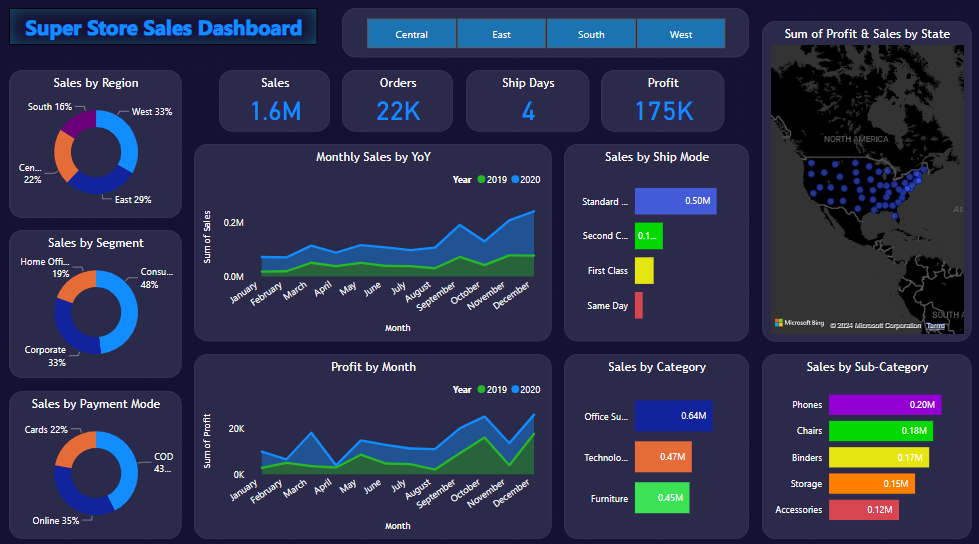

The dashboard page shown, as its layout file describes it:
{"tool":"powerbi","page":{"name":"Page 1","canvas":[1280,720],"ordinal":0},"visuals":[{"type":"clusteredBarChart","title":"Sales by Category","fields":{"Category":["SuperStore_Sales_Dataset.Category"],"Y":["Sum(SuperStore_Sales_Dataset.Sales)"]},"box":[736,464,240,240],"z":0},{"type":"clusteredBarChart","title":"Sales by Sub-Category","fields":{"Y":["Sum(SuperStore_Sales_Dataset.Sales)"],"Category":["SuperStore_Sales_Dataset.Sub-Category"]},"box":[992,464,272,240],"z":1000},{"type":"clusteredBarChart","title":"Sales by Ship Mode","fields":{"Y":["Sum(SuperStore_Sales_Dataset.Sales)"],"Category":["SuperStore_Sales_Dataset.Ship Mode"]},"box":[736,192,240,256],"z":2000},{"type":"stackedAreaChart","title":"Monthly Sales by YoY","fields":{"Y":["Sum(SuperStore_Sales_Dataset.Sales)"],"Category":["SuperStore_Sales_Dataset.Order Date.Variation.Date Hierarchy.Month","SuperStore_Sales_Dataset.Order Date.Variation.Date Hierarchy.Day"],"Series":["SuperStore_Sales_Dataset.Order Date.Variation.Date Hierarchy.Year"]},"box":[256,192,464,256],"z":3000},{"type":"stackedAreaChart","title":"Profit by Month","fields":{"Category":["SuperStore_Sales_Dataset.Order Date.Variation.Date Hierarchy.Month","SuperStore_Sales_Dataset.Order Date.Variation.Date Hierarchy.Day"],"Series":["SuperStore_Sales_Dataset.Order Date.Variation.Date Hierarchy.Year"],"Y":["Sum(SuperStore_Sales_Dataset.Profit)"]},"box":[256,464,464,240],"z":4000},{"type":"map","title":"Sum of Profit & Sales by State","fields":{"Category":["SuperStore_Sales_Dataset.State"]},"box":[992,32,272,416],"z":5000},{"type":"donutChart","title":"Sales by Payment Mode","fields":{"Y":["Sum(SuperStore_Sales_Dataset.Sales)"],"Category":["SuperStore_Sales_Dataset.Payment Mode"]},"box":[16,512,224,192],"z":6000},{"type":"donutChart","title":"Sales by Segment","fields":{"Category":["SuperStore_Sales_Dataset.Segment"],"Y":["Sum(SuperStore_Sales_Dataset.Sales)"]},"box":[16,304,224,192],"z":7000},{"type":"slicer","fields":{"Values":["SuperStore_Sales_Dataset.Region"]},"box":[448,16,528,64],"z":8000},{"type":"textbox","box":[16,16,400,48],"z":9000},{"type":"card","title":"Sales","fields":{"Values":["Sum(SuperStore_Sales_Dataset.Sales)"]},"box":[288,96,144,80],"z":10000},{"type":"card","title":"Orders","fields":{"Values":["Sum(SuperStore_Sales_Dataset.Quantity)"]},"box":[448,96,144,80],"z":11000},{"type":"card","title":"Ship Days","fields":{"Values":["Avg(SuperStore_Sales_Dataset.AvgDelivery)"]},"box":[608,96,160,80],"z":12000},{"type":"card","title":"Profit","fields":{"Values":["Sum(SuperStore_Sales_Dataset.Profit)"]},"box":[784,96,160,80],"z":13000},{"type":"donutChart","title":"Sales by Region","fields":{"Y":["Sum(SuperStore_Sales_Dataset.Sales)"],"Category":["SuperStore_Sales_Dataset.Region"]},"box":[16,96,224,192],"z":14000}]}

Visuals, with their boxes in screenshot pixels (x1, y1, x2, y2), scaled from the page's 1280x720 canvas onto the 979x544 screenshot:
"Sales by Category" clusteredBarChart: bbox=[563, 351, 746, 532]
"Sales by Sub-Category" clusteredBarChart: bbox=[759, 351, 967, 532]
"Sales by Ship Mode" clusteredBarChart: bbox=[563, 145, 746, 338]
"Monthly Sales by YoY" stackedAreaChart: bbox=[196, 145, 551, 338]
"Profit by Month" stackedAreaChart: bbox=[196, 351, 551, 532]
"Sum of Profit & Sales by State" map: bbox=[759, 24, 967, 338]
"Sales by Payment Mode" donutChart: bbox=[12, 387, 184, 532]
"Sales by Segment" donutChart: bbox=[12, 230, 184, 375]
slicer - SuperStore_Sales_Dataset.Region: bbox=[343, 12, 746, 60]
textbox: bbox=[12, 12, 318, 48]
"Sales" card: bbox=[220, 73, 330, 133]
"Orders" card: bbox=[343, 73, 453, 133]
"Ship Days" card: bbox=[465, 73, 587, 133]
"Profit" card: bbox=[600, 73, 722, 133]
"Sales by Region" donutChart: bbox=[12, 73, 184, 218]
